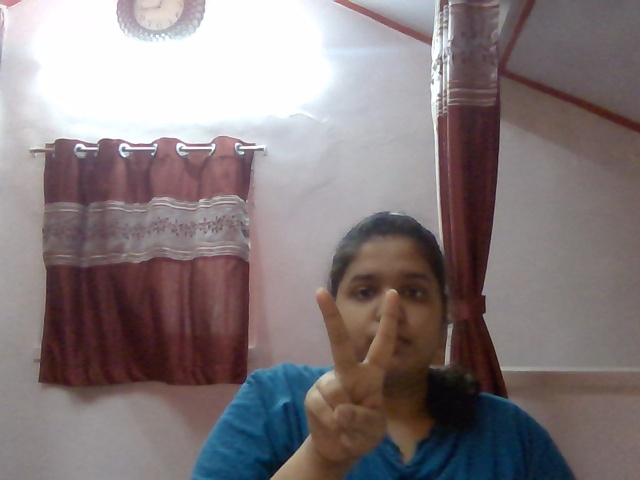v: (262, 271, 437, 473)
